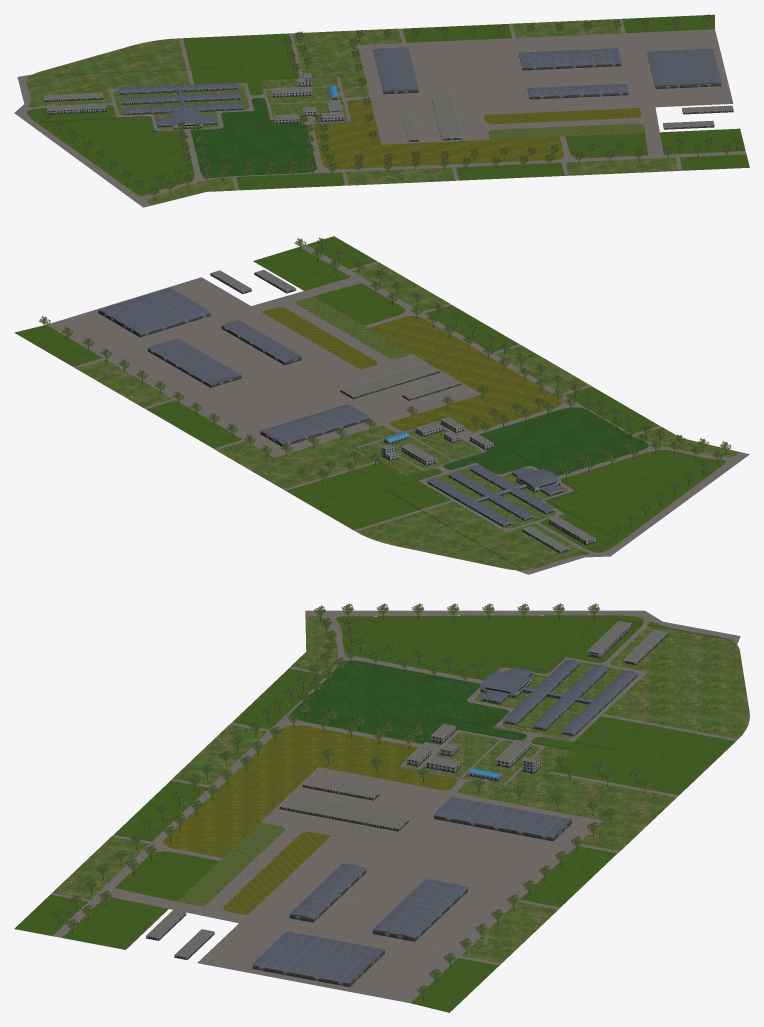
3 renders of one model, top to bottom at view 1: azimuth 30°, elevation 25°; view 2: azimuth 150°, elevation 25°; view 3: azimuth 270°, elevation 25°, orthographic. The views are drawn at different scales.
Parts seen in each view (by area): view 1: DaoLu_008, Line033, ??008, ??007, ??006, ??004, ?????_???022, CaoDi_1, ?????_???021, ?????_???023, Line035, Line034 (+7 smaller); view 2: DaoLu_008, Line033, ??008, ??007, ??006, ??004, ?????_???022, CaoDi_1, ?????_???023, ?????_???021, Line035, Line034 (+5 smaller); view 3: DaoLu_008, Line033, ??008, ??007, ??006, ??004, ?????_???022, CaoDi_1, ?????_???023, ?????_???021, CaoDi_004, Line035 (+6 smaller).
Boxes of the visible parts, x1,y1,x2,y2 form: DaoLu_008: (14,19,746,207); Line033: (26,14,749,196); ??008: (26,19,678,205); ??007: (312,99,563,169); ??006: (190,98,316,178); ??004: (43,82,243,129); ?????_???022: (647,48,721,88); CaoDi_1: (260,76,347,120); ?????_???021: (518,48,621,70); ?????_???023: (373,47,418,94); Line035: (484,108,641,124); Line034: (488,123,645,139); DaoLu_008: (47,245,749,574); Line033: (14,236,725,552); ??008: (76,262,739,570); ??007: (368,316,563,432); ??006: (443,407,648,476); ??004: (427,465,595,553); ?????_???022: (98,288,210,337); CaoDi_1: (356,422,481,476); ?????_???023: (260,404,369,446); ?????_???021: (147,338,241,387); Line035: (262,307,377,369); Line034: (296,296,411,358); DaoLu_008: (50,610,740,1003); Line033: (14,615,735,1012); ??008: (53,616,749,963); ??007: (162,725,457,857); ??006: (291,660,526,744); ??004: (479,620,667,736); ?????_???022: (252,931,385,986); CaoDi_1: (405,732,571,789); ?????_???023: (433,797,572,841); ?????_???021: (372,879,468,941); CaoDi_004: (475,662,624,738); Line035: (223,831,330,915).
Bounding box in the file's own units: 1095 × 19.89 × 847.
27 materials, 27 textured.
